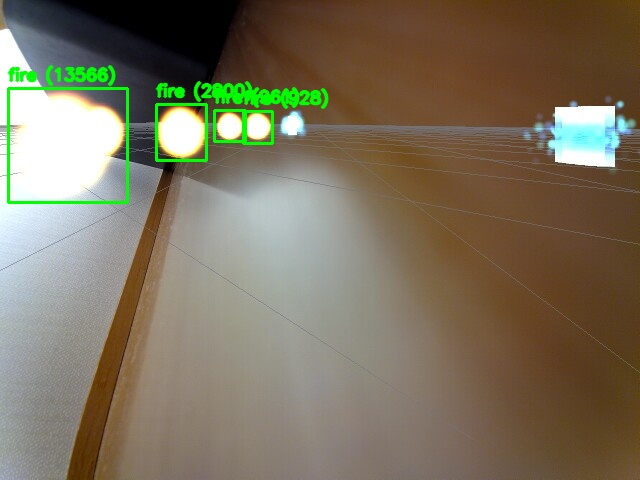fire: (8, 88, 127, 202), (156, 104, 206, 160), (214, 110, 245, 141), (243, 111, 272, 143)
